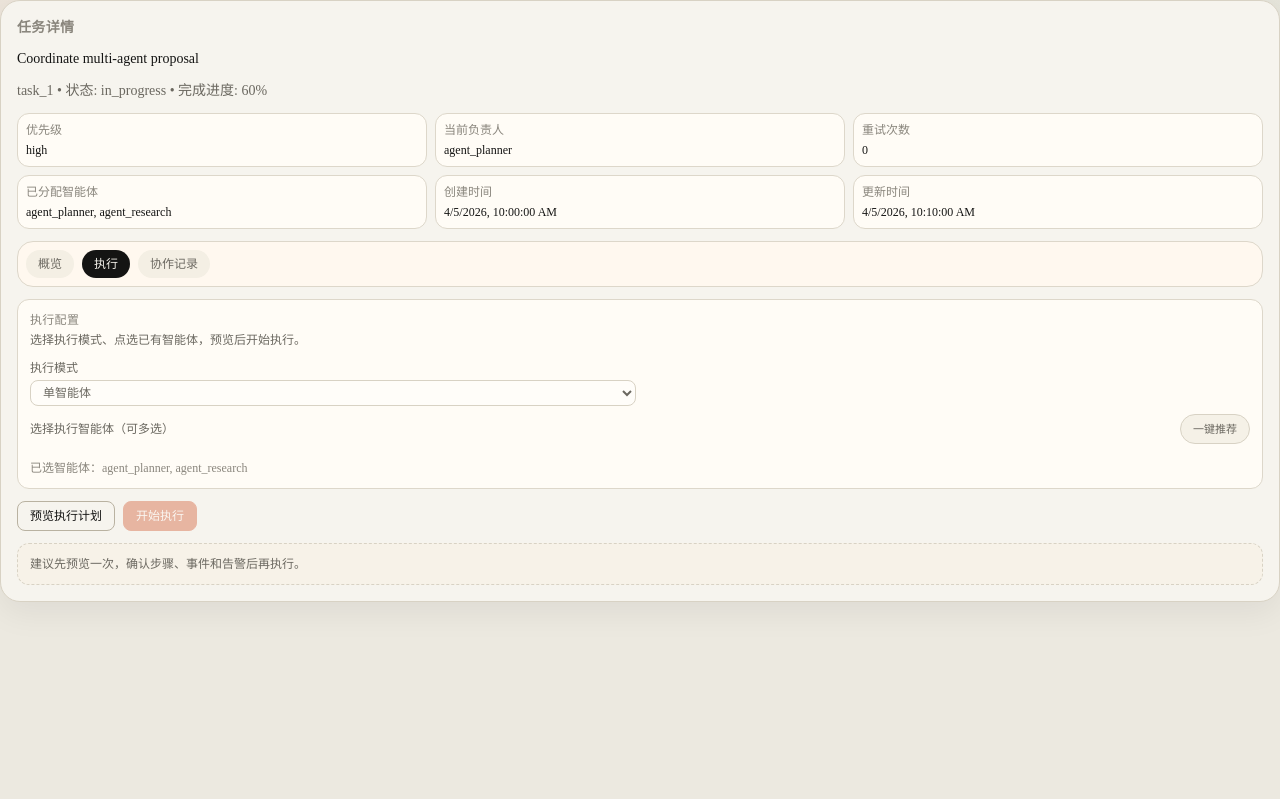
Test: TaskDetail › renders routing, consensus, and arbitration explanations when available
The width and height of the screenshot is (1280, 799).
Click the button with test id "task-detail-tab-overview". click: (50,264)
box: top-left (26, 250), bottom-right (74, 278)
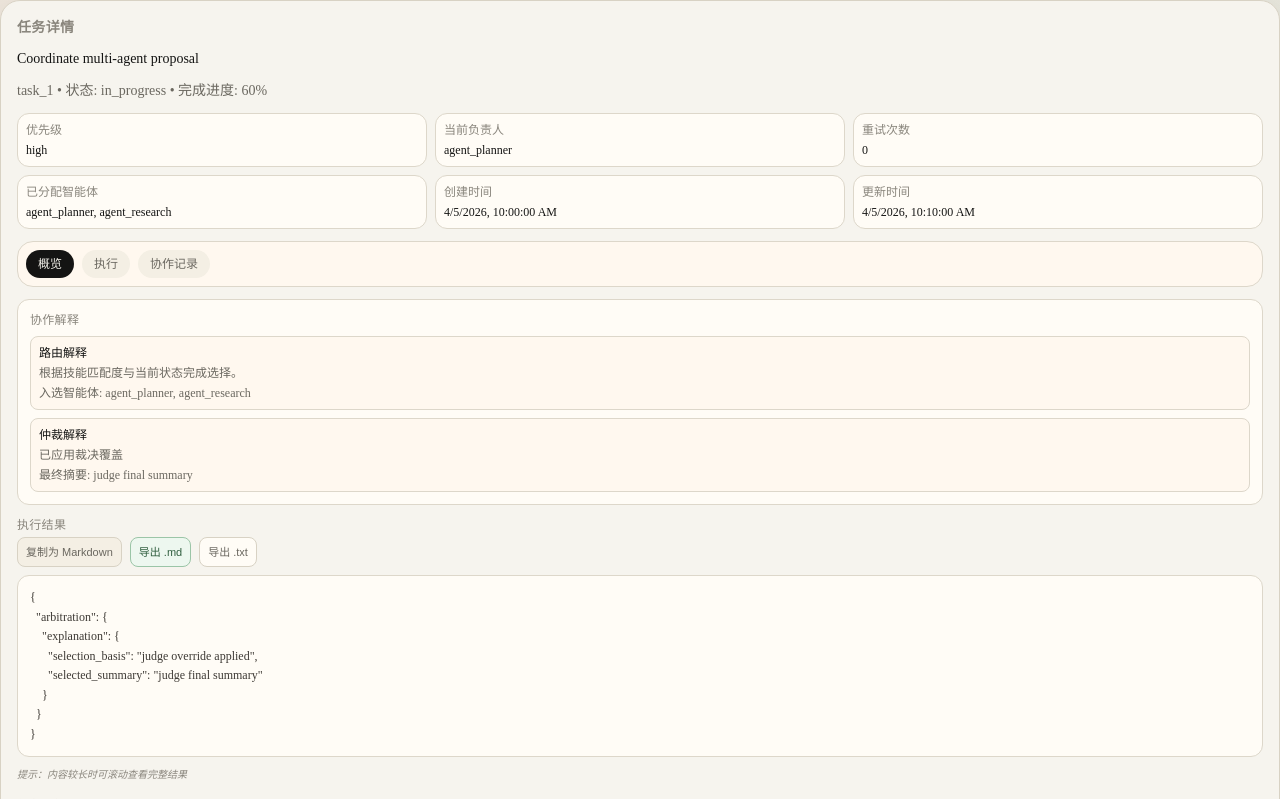
Expected: the element with test id "task-routing-explanation" is shown, top-left (30, 336), bottom-right (1250, 410)
Expected: the element with test id "task-arbitration-explanation" is shown, top-left (30, 418), bottom-right (1250, 492)
Click the button with test id "task-detail-tab-coordination". click: (174,264)
box: top-left (138, 250), bottom-right (210, 278)
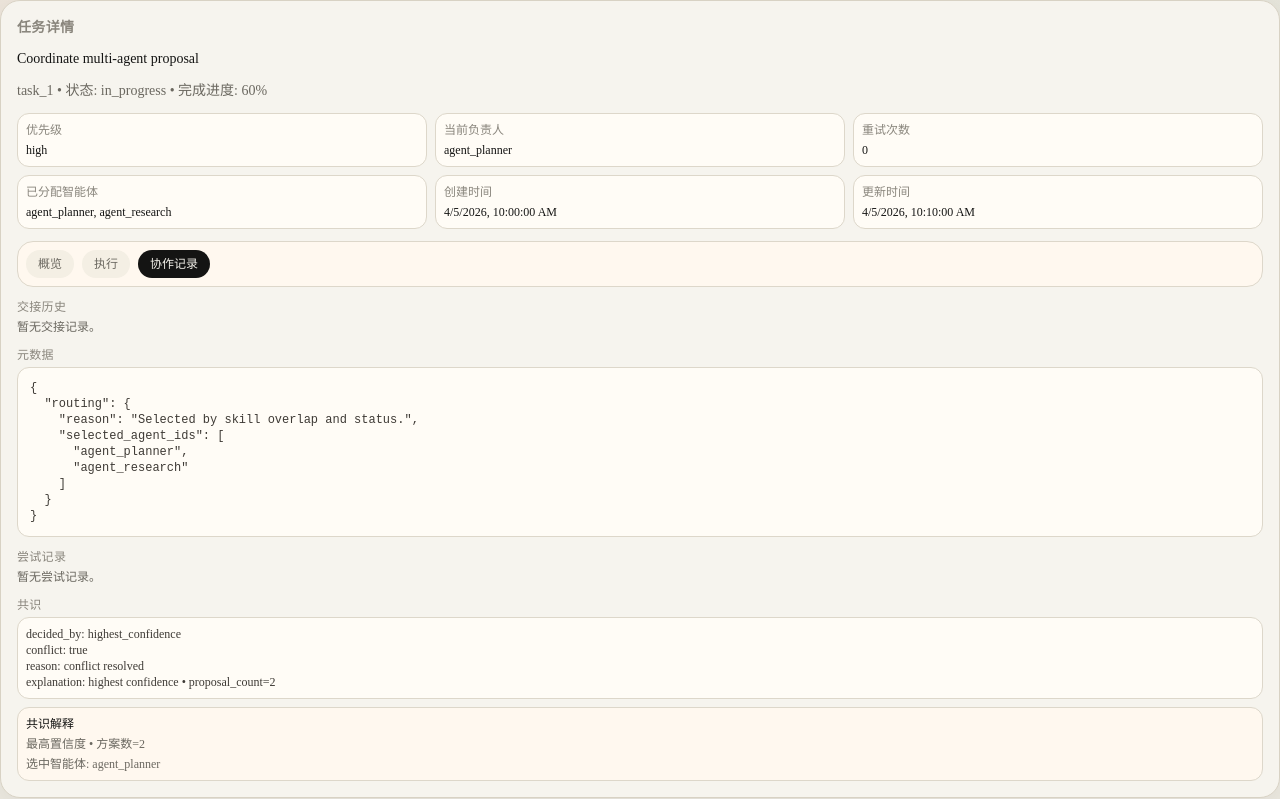
Expected: the element with test id "task-consensus-explanation" is shown, top-left (17, 707), bottom-right (1263, 781)
